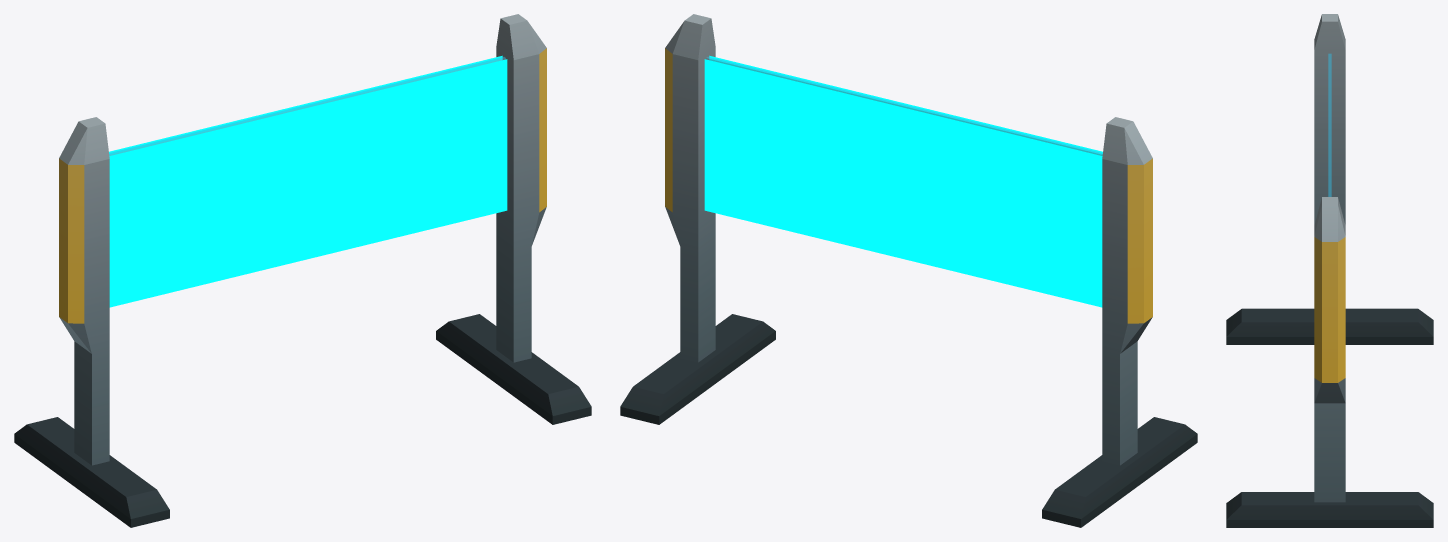
File: Barriaer_006.glb
3 views of the same model, side by side, from view 1: azimuth 30°, elevation 25°; view 2: azimuth 150°, elevation 25°; view 3: azimuth 270°, elevation 25° (orthographic). The views are drawn at different scales.
Visible parts, largest first — view 1: Barriaer_006; view 2: Barriaer_006; view 3: Barriaer_006.
Part boxes in pixels (<box>): Barriaer_006: <box>14,14,591,527</box>; Barriaer_006: <box>620,14,1197,527</box>; Barriaer_006: <box>1226,14,1433,527</box>.
Size of the model in its own units: 1.42 by 1.02 by 0.6.
Materials: 3 (3 with a texture image).
